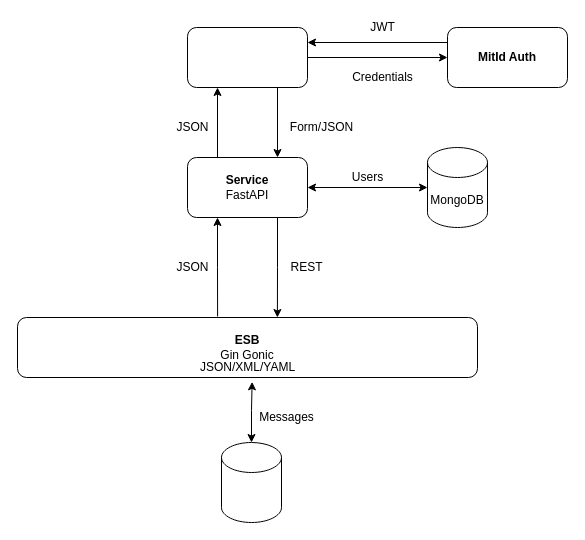
Some shapes in this 585 by 540 pixel diagram are drawn without their labels. The centre of each missing label's shape, as x and y in pixels:
"Client Svelte" belongs at point 247,57.
"Redis" belongs at point 251,482.
